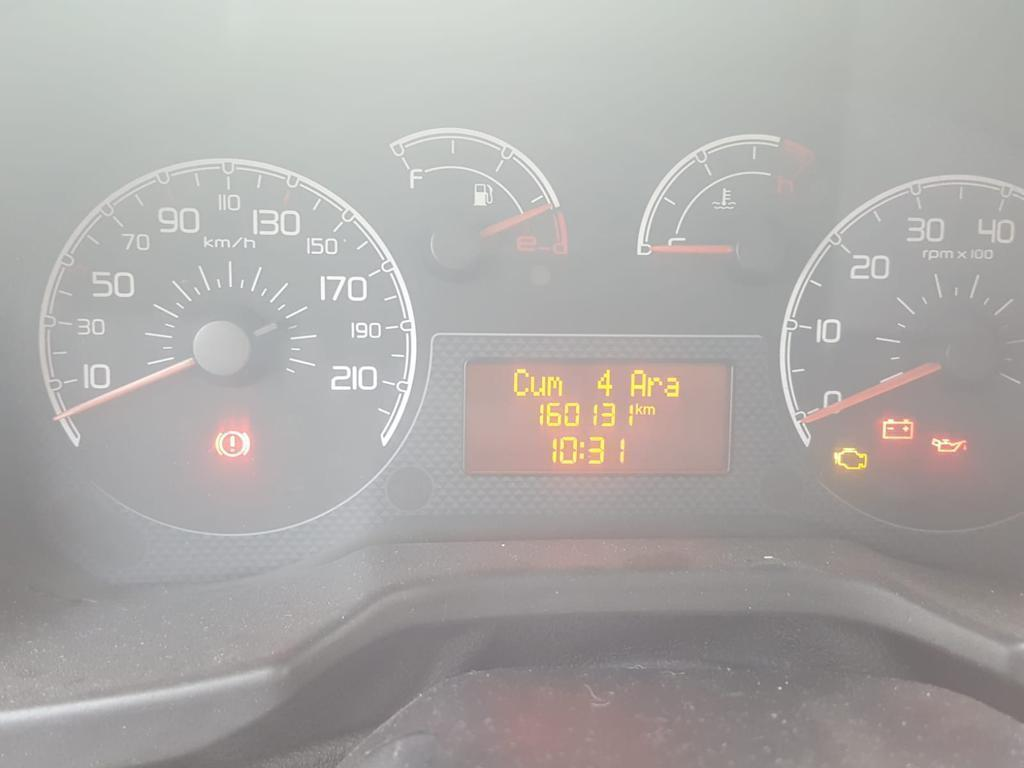0: (558, 435, 577, 465), (563, 400, 581, 428)
1: (615, 434, 628, 464), (588, 401, 599, 427), (535, 401, 546, 427), (548, 437, 558, 464), (624, 402, 634, 428)
3: (586, 434, 605, 465), (600, 400, 617, 428)
4: (595, 366, 614, 398)
6: (546, 400, 562, 428)
X: (511, 366, 529, 399), (628, 367, 646, 399), (663, 375, 681, 400), (528, 374, 546, 398), (545, 374, 562, 397), (647, 374, 662, 399), (577, 438, 586, 461), (643, 404, 657, 416), (635, 400, 643, 416)
odometer: (461, 354, 735, 477)
